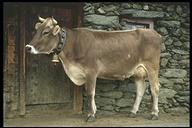cow: (26, 13, 167, 122)
stone: (164, 7, 189, 114)
